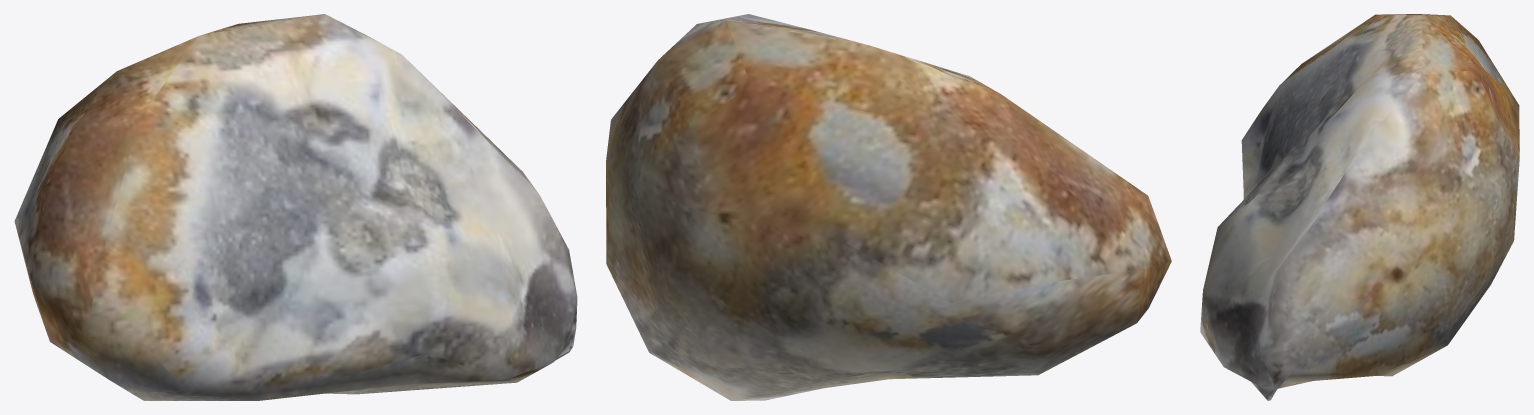
File: rock.glb
3 views of the same model, side by side, from view 1: azimuth 30°, elevation 25°; view 2: azimuth 150°, elevation 25°; view 3: azimuth 270°, elevation 25° (orthographic). The views are drawn at different scales.
Parts seen in each view (by area): view 1: rock087_lod4; view 2: rock087_lod4; view 3: rock087_lod4.
Boxes of the visible parts, bbox=[...] form: rock087_lod4: bbox=[14, 14, 577, 400]; rock087_lod4: bbox=[606, 14, 1171, 400]; rock087_lod4: bbox=[1200, 14, 1519, 400].
Size of the model in its own units: 1 by 0.6762 by 0.6613.
Materials: 1 (1 with a texture image).
